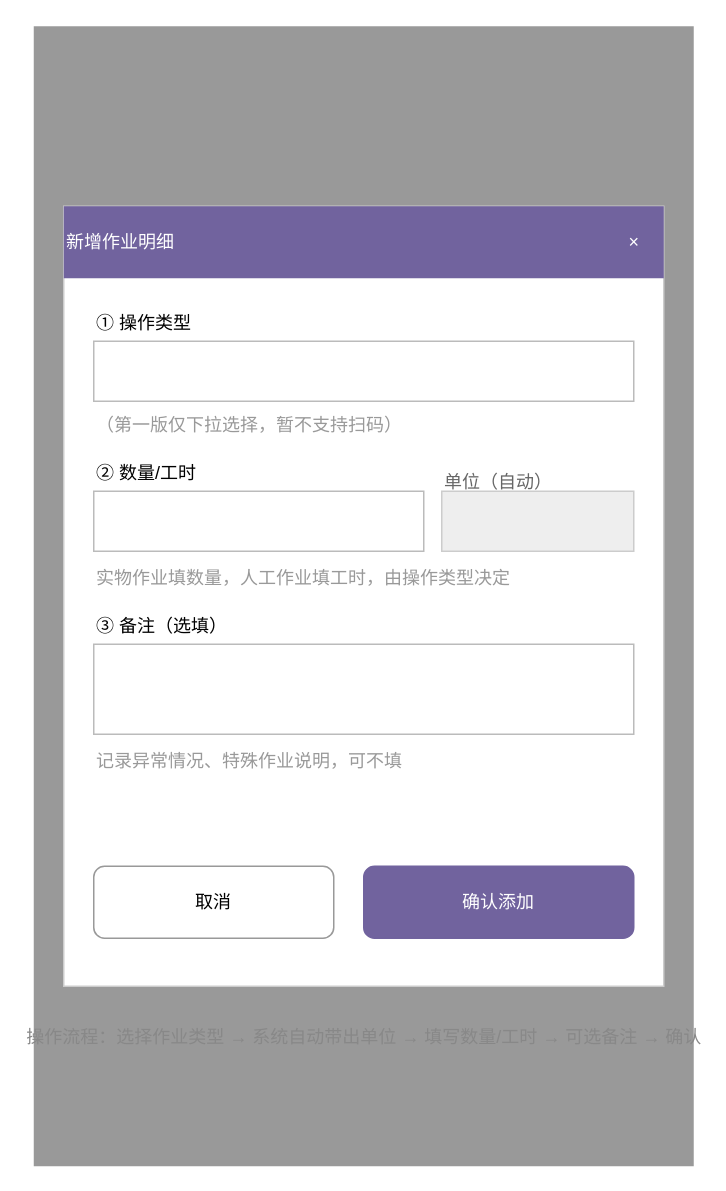
This 726x1191 diagram has some shape labels left out. Here are the shapes that lost their labels. From the top down, the centre of each, then its label:
point (363, 370): 请选择作业类型 ▾
point (537, 520): （选类型后自动显示）
